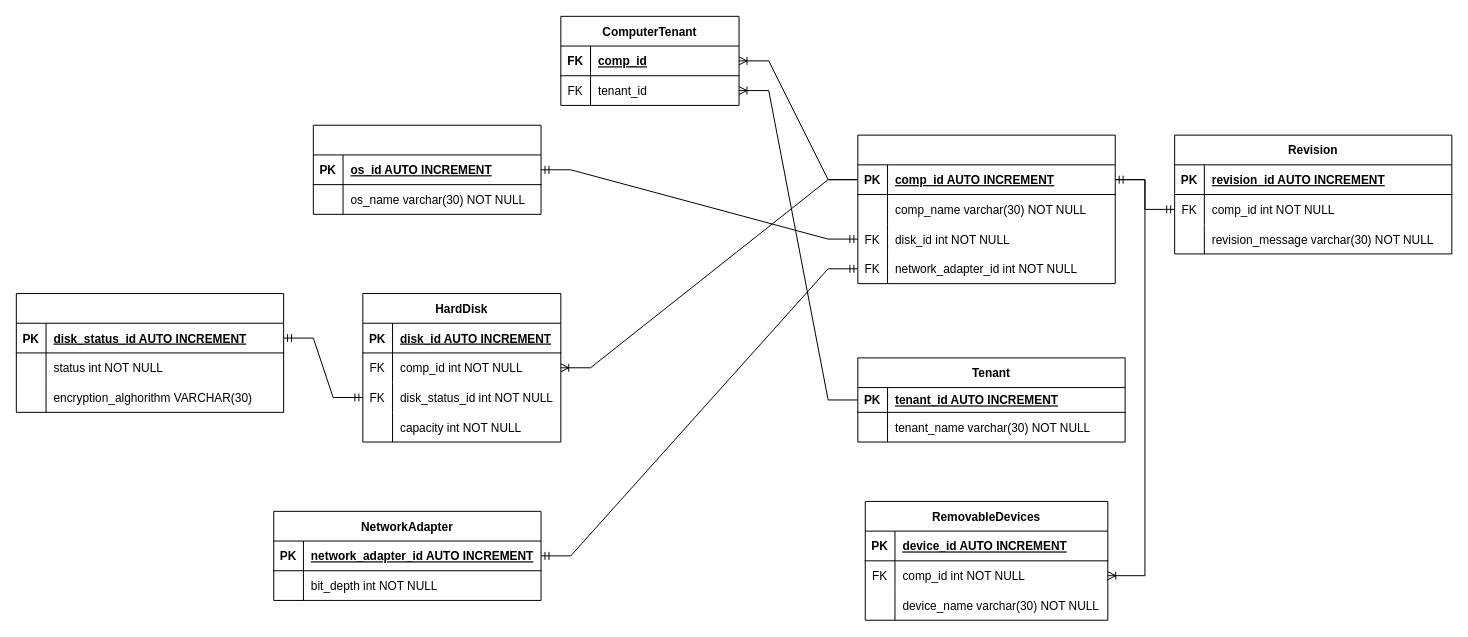
Image size: 1468x637. Some labels were removed from this diagram. Here are the shapes that lost their labels. From the top down, the box of each, then its label:
(312, 124, 541, 214): Os
(857, 134, 1115, 284): Computer
(15, 293, 284, 412): HardDiskEncryptionStatus
